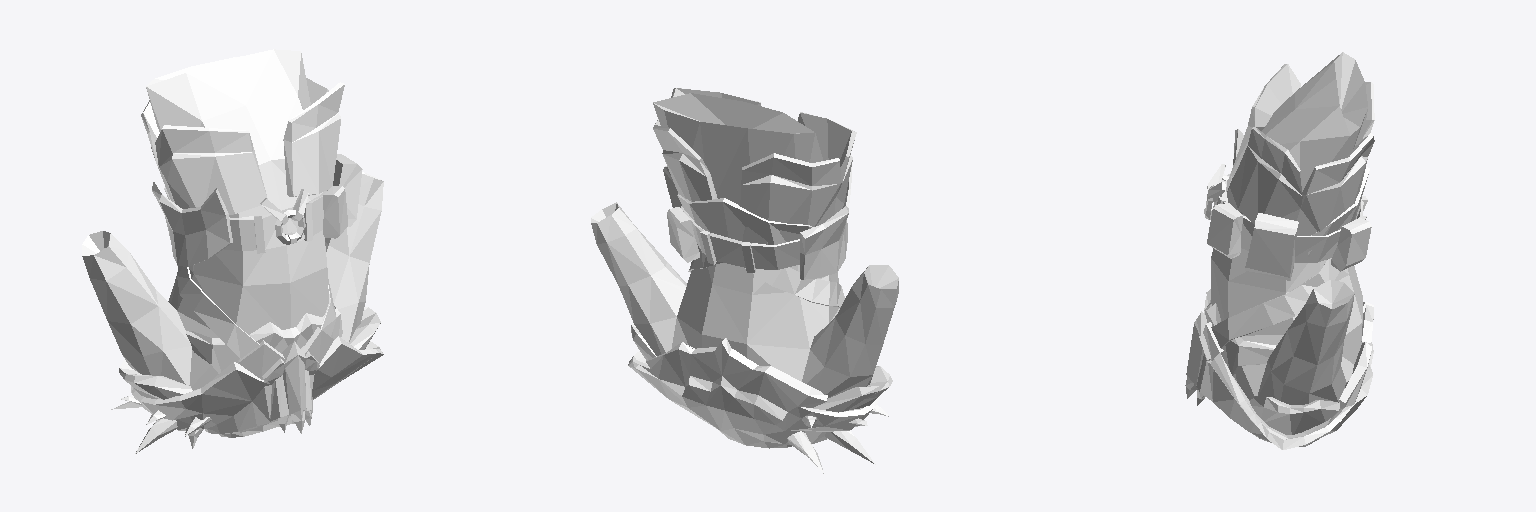
Rendered from dragonscale_armor.obj.
The picture shows the model from 3 angles: view 1: azimuth 30°, elevation 25°; view 2: azimuth 150°, elevation 25°; view 3: azimuth 270°, elevation 25°; orthographic projection.
Parts seen in each view (by area): view 1: ArmorGND:0; view 2: ArmorGND:0; view 3: ArmorGND:0.
Boxes of the visible parts, box(x1,y1,x2,y2) form: ArmorGND:0: box(82, 49, 383, 453); ArmorGND:0: box(591, 88, 898, 473); ArmorGND:0: box(1185, 52, 1374, 449).
Size of the model in its own units: 59.6 by 66.23 by 32.27.